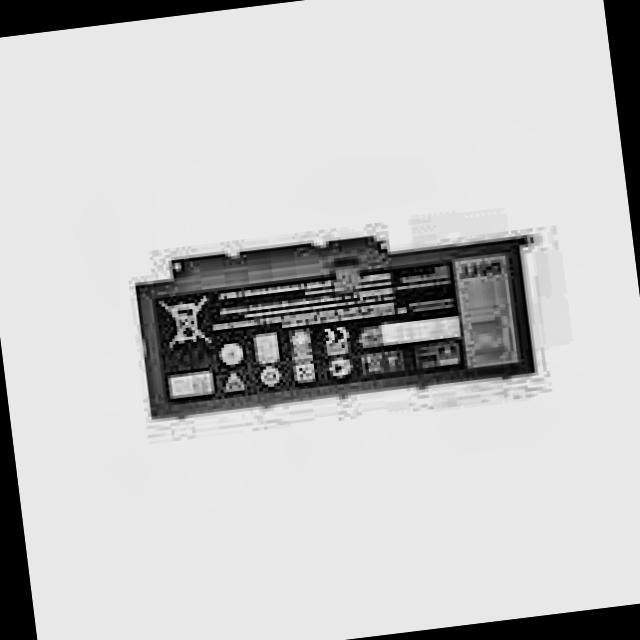Battery: (129, 218, 534, 416)
